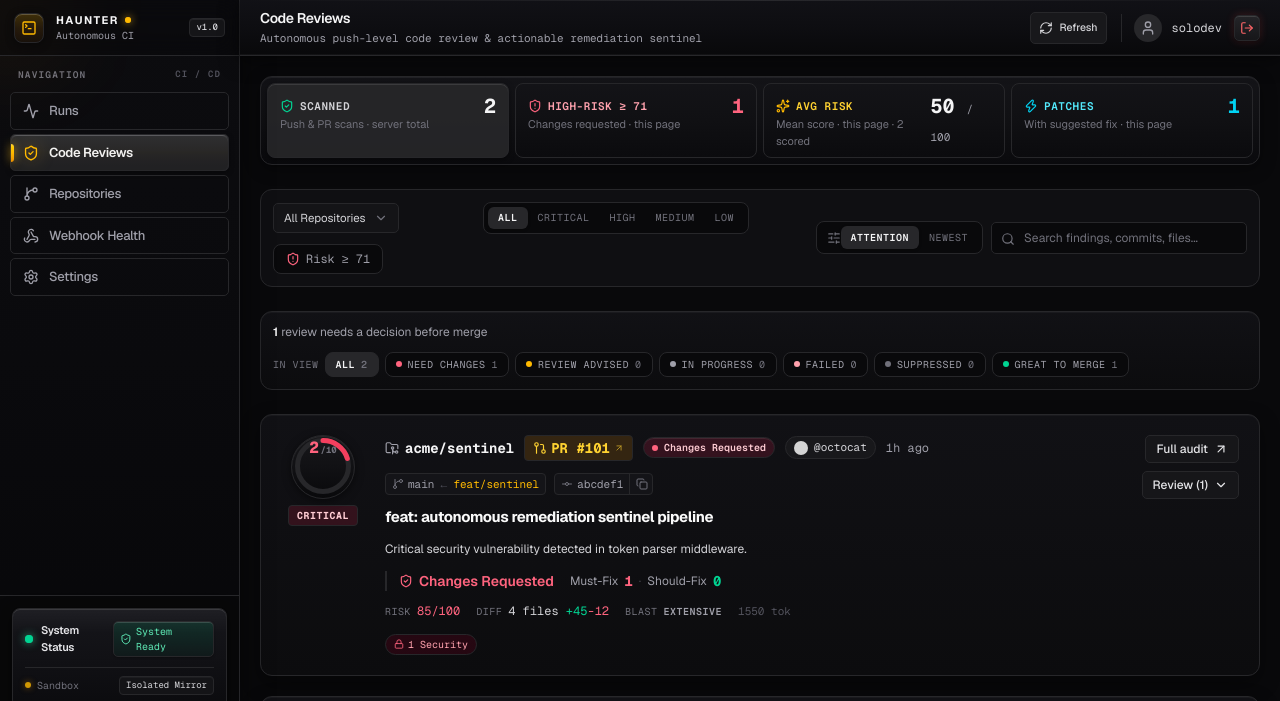
it: ReviewsPage (app/reviews/page.tsx) › surfaces clipboard errors instead of failing silently
Click the button "Review (1)": {"x": 1190, "y": 485} [1142, 471, 1239, 499]
(page scrolled)
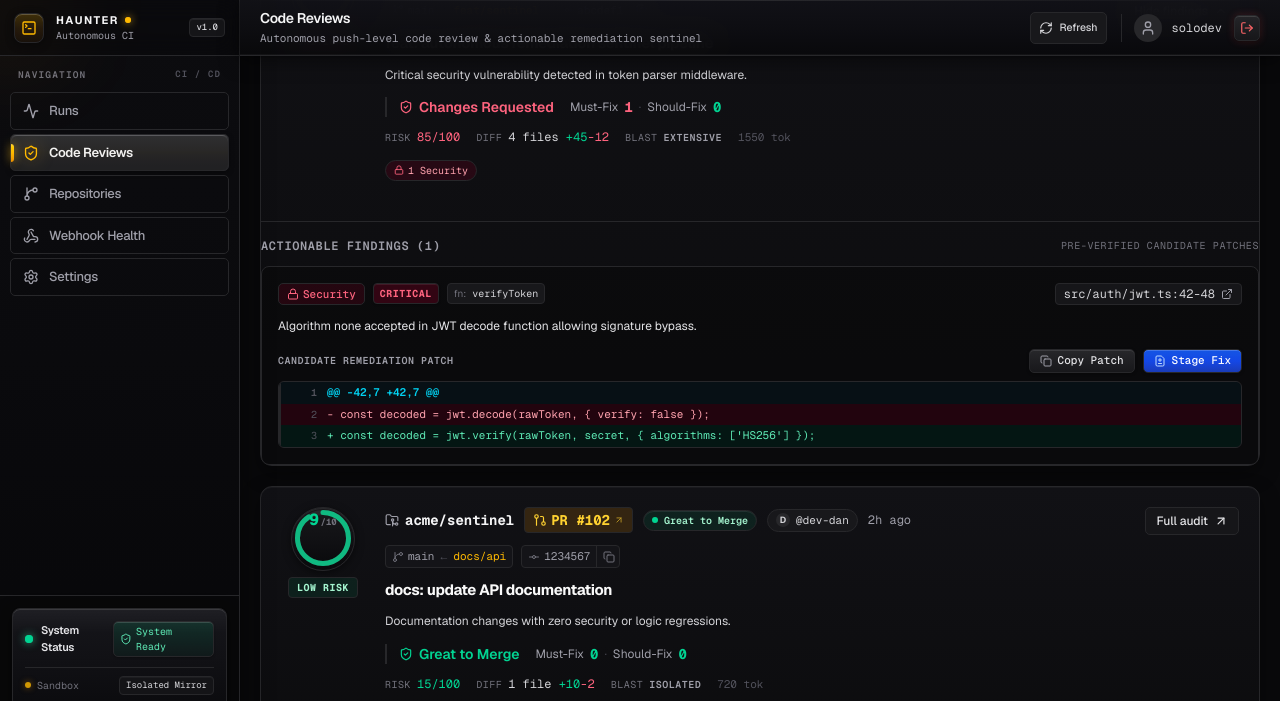
Click the button "Copy Patch": {"x": 1082, "y": 361} [1029, 349, 1135, 373]
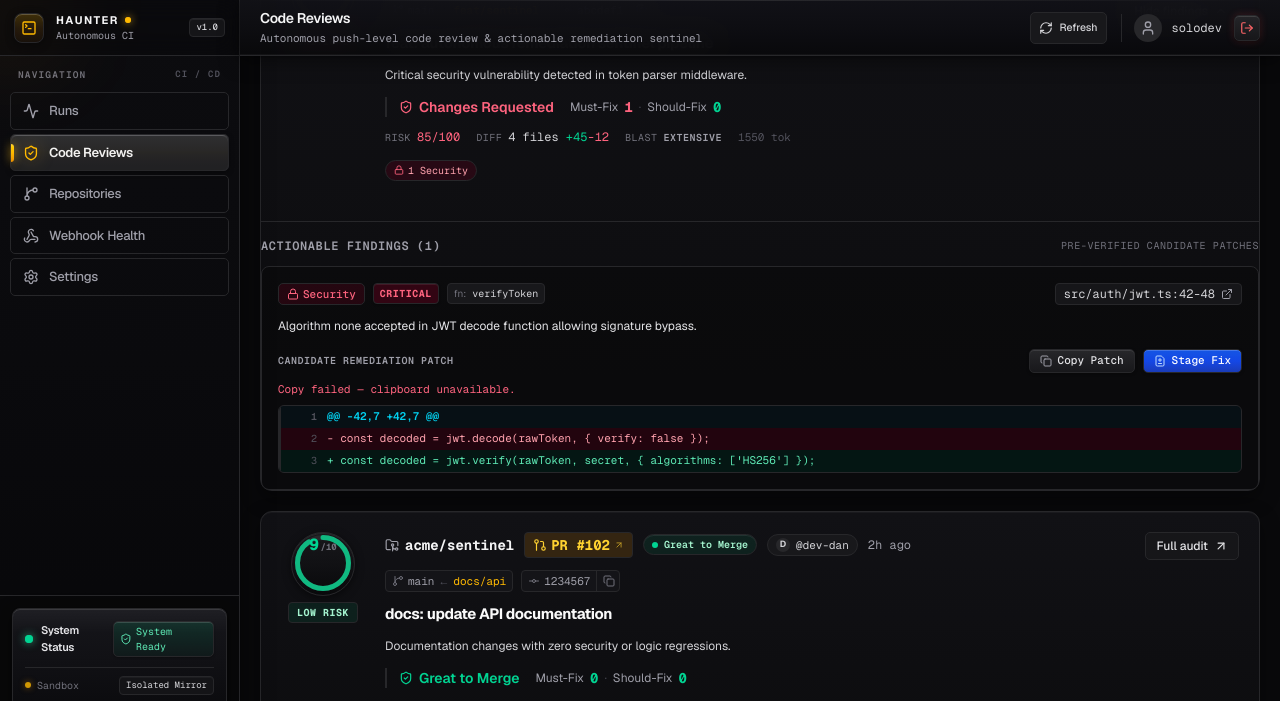
expect the message shows "Copy failed": met, box [278, 382, 516, 396]
